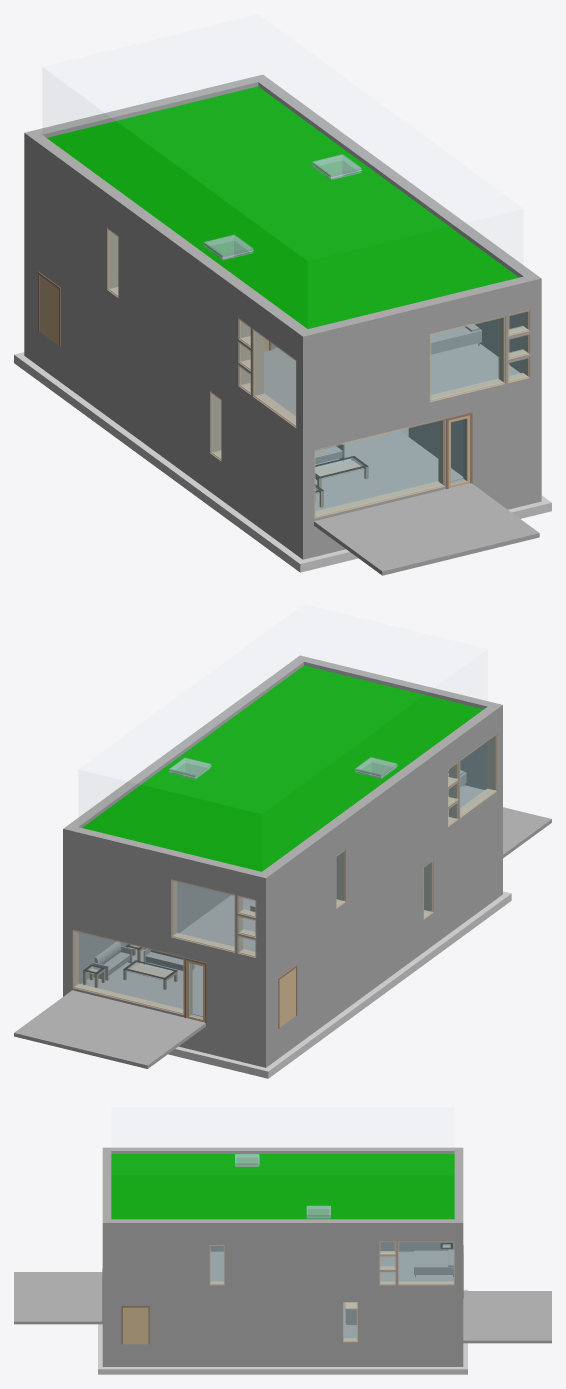
The picture shows the model from 3 angles, top to bottom: view 1: azimuth 30°, elevation 25°; view 2: azimuth 150°, elevation 25°; view 3: azimuth 270°, elevation 25°; orthographic projection. The views are drawn at different scales.
Parts seen in each view (by area): view 1: 3ThA22djr8AQQ9eQMA5s7I, 2O2Fr$t4X7Zf8NOew3FNhv, 2O2Fr$t4X7Zf8NOew3FLPP, 2O2Fr$t4X7Zf8NOew3FLOH, 1CZILmCaHETO8tf3SgGEXu, 2O2Fr$t4X7Zf8NOew3FNr2, 2O2Fr$t4X7Zf8NOew3FKE5, 0jf0rYHfX3RAB3bSIRjmr1, 2OBrcmyk58NupXoVOHUtxr, 0jf0rYHfX3RAB3bSIRjmoa, 0jf0rYHfX3RAB3bSIRjmpw, 0kF45Qs8L9PAM9kmb1lT5t (+19 smaller); view 2: 3ThA22djr8AQQ9eQMA5s7I, 2O2Fr$t4X7Zf8NOew3FNhv, 2O2Fr$t4X7Zf8NOew3FLPP, 2O2Fr$t4X7Zf8NOew3FLQD, 2O2Fr$t4X7Zf8NOew3FNtn, 1CZILmCaHETO8tf3SgGEWh, 2O2Fr$t4X7Zf8NOew3FKE5, 0jf0rYHfX3RAB3bSIRjmr1, 0jf0rYHfX3RAB3bSIRjmmy, 0kF45Qs8L9PAM9kmb1lT5t, 0jf0rYHfX3RAB3bSIRjmpw, 2OBrcmyk58NupXoVOHUtgP (+20 smaller); view 3: 3ThA22djr8AQQ9eQMA5s7I, 2O2Fr$t4X7Zf8NOew3FNqI, 2O2Fr$t4X7Zf8NOew3FLR9, 2O2Fr$t4X7Zf8NOew3FK9N, 0jf0rYHfX3RAB3bSIRjmpw, 1CZILmCaHETO8tf3SgGEWh, 1CZILmCaHETO8tf3SgGEXu, 0kF45Qs8L9PAM9kmb1lT5d, 0jf0rYHfX3RAB3bSIRjmr1, 1hOSvn6df7F8_7GcBWlRGQ, 2OBrcmyk58NupXoVOHUtDX, 2OBrcmyk58NupXoVOHUtI8 (+7 smaller).
Part boxes in pixels (x1,y1,x2,y2): 3ThA22djr8AQQ9eQMA5s7I: (47,86,518,328); 2O2Fr$t4X7Zf8NOew3FNhv: (31,237,296,518); 2O2Fr$t4X7Zf8NOew3FLPP: (24,150,302,435); 2O2Fr$t4X7Zf8NOew3FLOH: (303,296,541,436); 1CZILmCaHETO8tf3SgGEXu: (314,483,539,575); 2O2Fr$t4X7Zf8NOew3FNr2: (296,381,530,524); 2O2Fr$t4X7Zf8NOew3FKE5: (31,325,296,554); 0jf0rYHfX3RAB3bSIRjmr1: (31,135,307,348); 2OBrcmyk58NupXoVOHUtxr: (315,428,463,511); 0jf0rYHfX3RAB3bSIRjmoa: (296,276,530,353); 0jf0rYHfX3RAB3bSIRjmpw: (258,79,541,298); 0kF45Qs8L9PAM9kmb1lT5t: (14,352,292,561); 3ThA22djr8AQQ9eQMA5s7I: (82,665,483,871); 2O2Fr$t4X7Zf8NOew3FNhv: (271,794,497,1032); 2O2Fr$t4X7Zf8NOew3FLPP: (266,720,502,962); 2O2Fr$t4X7Zf8NOew3FLQD: (63,843,265,962); 2O2Fr$t4X7Zf8NOew3FNtn: (63,913,271,1037); 1CZILmCaHETO8tf3SgGEWh: (14,990,205,1068); 2O2Fr$t4X7Zf8NOew3FKE5: (271,869,497,1063); 0jf0rYHfX3RAB3bSIRjmr1: (262,706,497,888); 0jf0rYHfX3RAB3bSIRjmmy: (63,825,271,892); 0kF45Qs8L9PAM9kmb1lT5t: (247,901,499,1078); 0jf0rYHfX3RAB3bSIRjmpw: (69,655,309,827); 2OBrcmyk58NupXoVOHUtgP: (81,949,202,1016); 3ThA22djr8AQQ9eQMA5s7I: (111,1154,454,1219); 2O2Fr$t4X7Zf8NOew3FNqI: (102,1287,454,1344); 2O2Fr$t4X7Zf8NOew3FLR9: (102,1234,463,1287); 2O2Fr$t4X7Zf8NOew3FK9N: (102,1344,454,1366); 0jf0rYHfX3RAB3bSIRjmpw: (102,1219,454,1233); 1CZILmCaHETO8tf3SgGEWh: (463,1291,551,1343); 1CZILmCaHETO8tf3SgGEXu: (14,1272,102,1324); 0kF45Qs8L9PAM9kmb1lT5d: (98,1361,467,1374); 0jf0rYHfX3RAB3bSIRjmr1: (111,1147,454,1153); 1hOSvn6df7F8_7GcBWlRGQ: (121,1306,149,1344); 2OBrcmyk58NupXoVOHUtDX: (380,1251,453,1281); 2OBrcmyk58NupXoVOHUtI8: (414,1249,453,1276).
Size of the model in its own units: 9.28 by 10.55 by 26.57.
